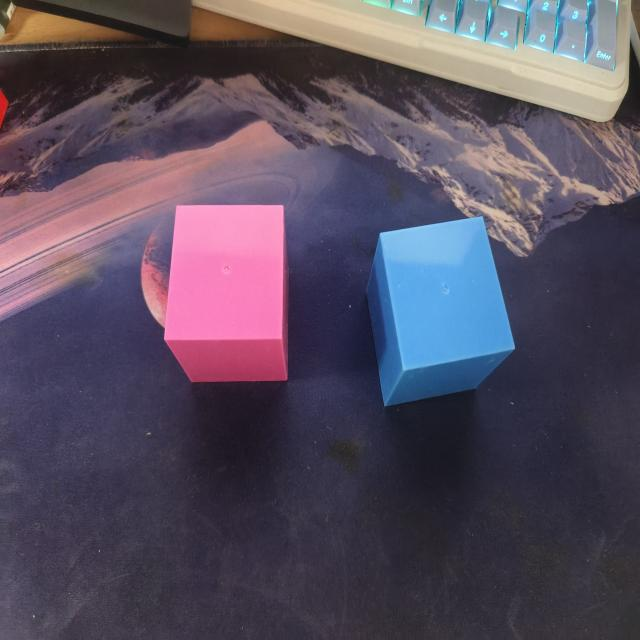blue: (359, 211, 521, 416)
pink: (161, 197, 293, 384)
